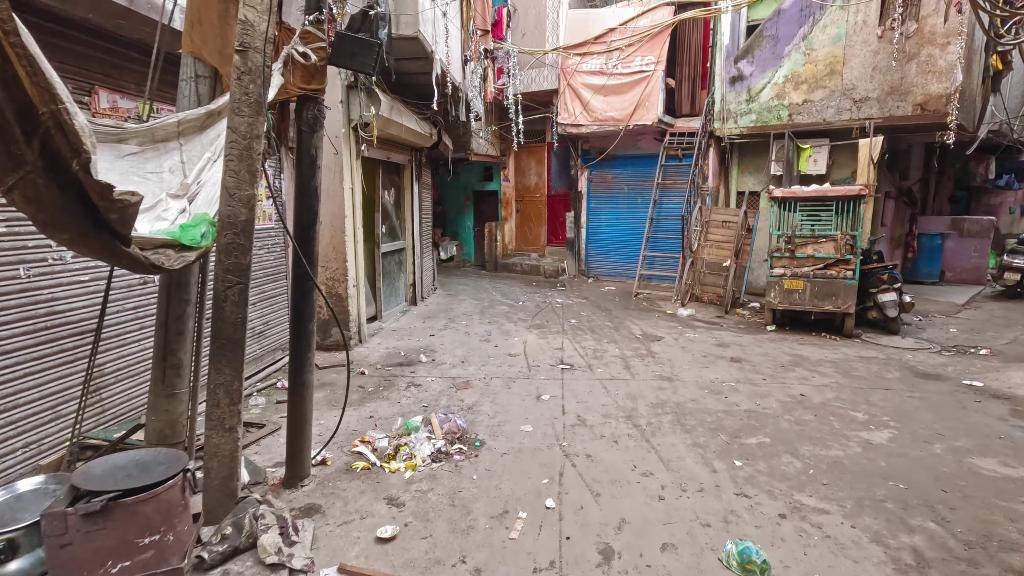garbage: (164, 208, 220, 251), (717, 535, 770, 576), (436, 411, 468, 439), (410, 432, 434, 458), (376, 525, 401, 541), (962, 379, 985, 389), (676, 307, 697, 317), (249, 396, 267, 407), (748, 301, 761, 309)
